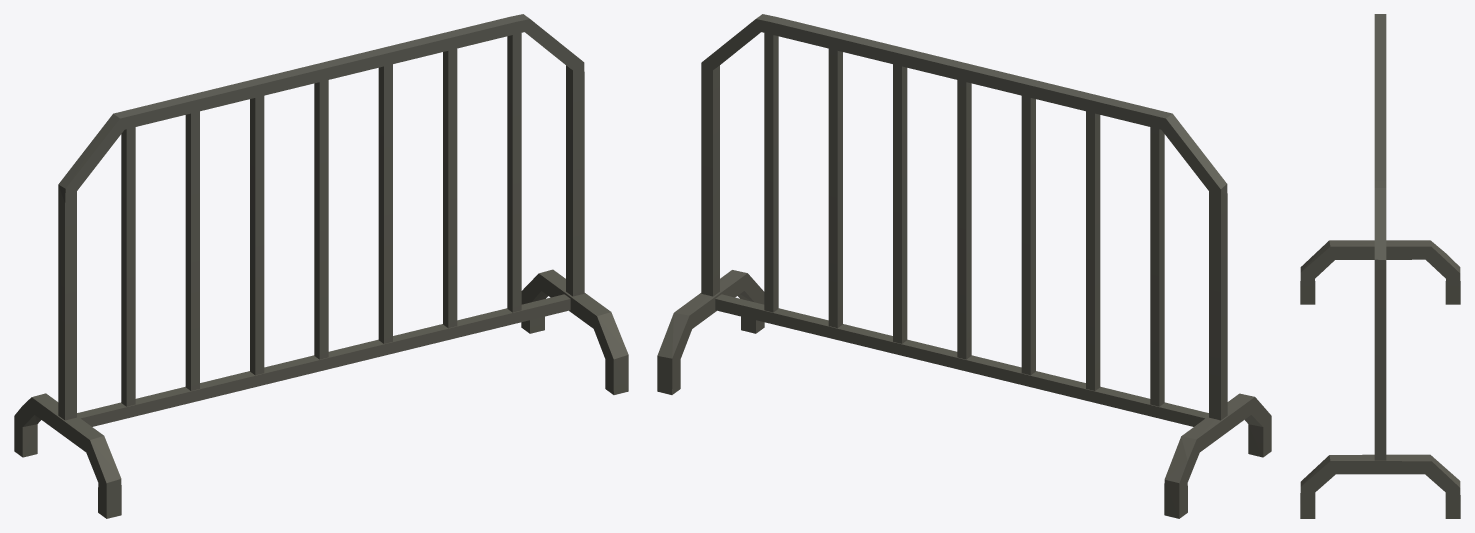
Rendered from Barrier_02.fbx.
3 views of the same model, side by side, from view 1: azimuth 30°, elevation 25°; view 2: azimuth 150°, elevation 25°; view 3: azimuth 270°, elevation 25° (orthographic). The views are drawn at different scales.
Visible parts, largest first — view 1: Barrier_02; view 2: Barrier_02; view 3: Barrier_02.
Part boxes in pixels (bbox=[...]): Barrier_02: bbox=[14, 14, 628, 518]; Barrier_02: bbox=[657, 14, 1271, 518]; Barrier_02: bbox=[1300, 14, 1460, 518].
Size of the model in its own units: 1.69 by 1.1 by 0.5171.
